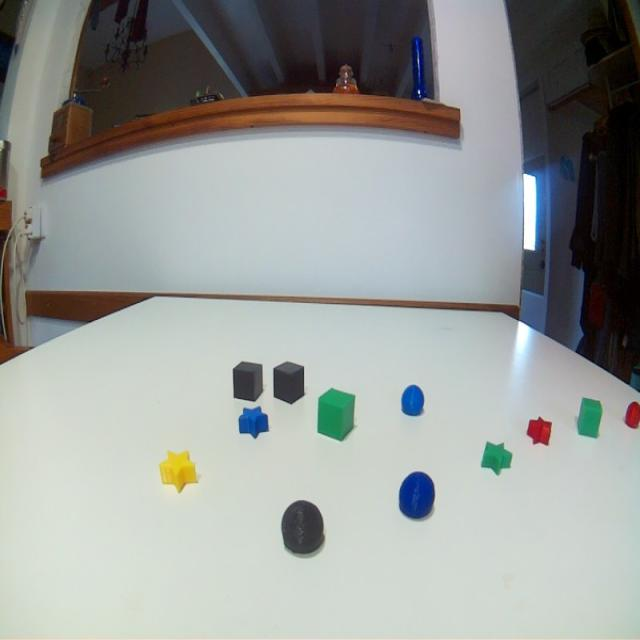ball: (280, 498, 326, 560), (398, 470, 436, 524), (400, 380, 425, 420), (622, 395, 640, 433)
cube: (313, 385, 358, 445), (272, 356, 306, 410), (228, 358, 266, 406), (575, 393, 602, 442)
star: (156, 444, 202, 499), (479, 435, 517, 480), (234, 404, 271, 444), (525, 412, 555, 454)
